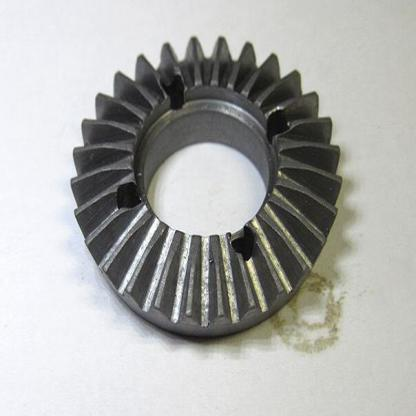FOD: (69, 29, 346, 347)
